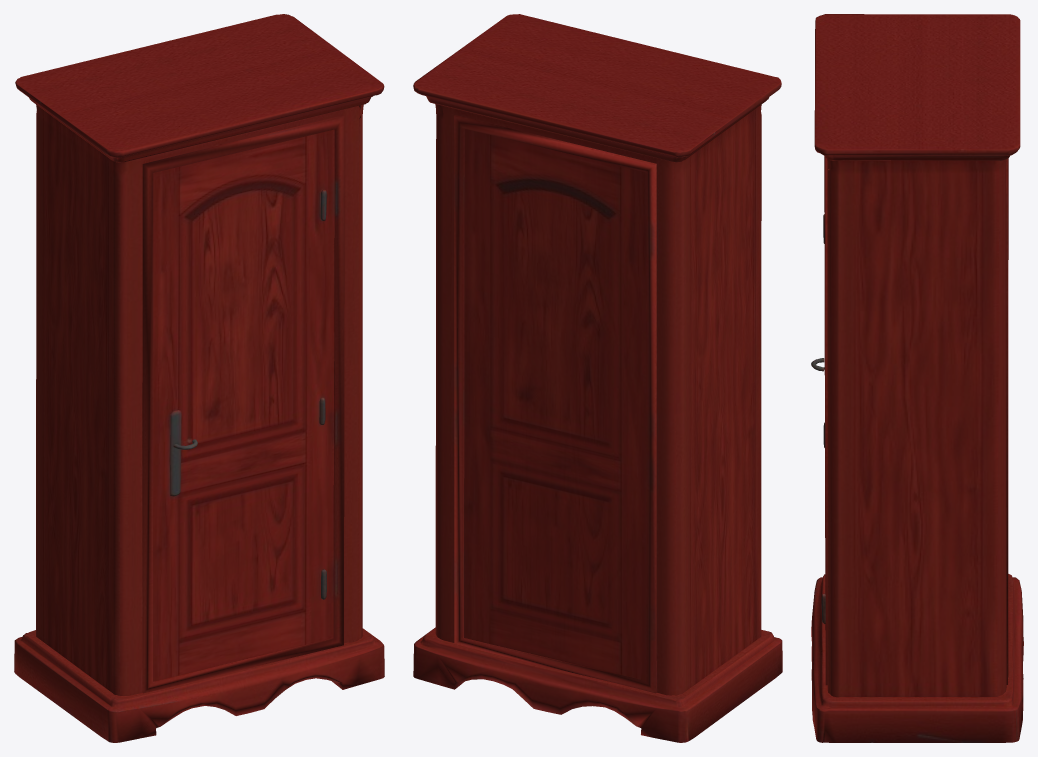
The model's file is xmas_pantry.glb.
The picture shows the model from 3 angles, left to right: view 1: azimuth 30°, elevation 25°; view 2: azimuth 150°, elevation 25°; view 3: azimuth 270°, elevation 25°; orthographic projection.
Size of the model in its own units: 0.4907 by 1 by 0.3248.
1 material, 1 textured.
